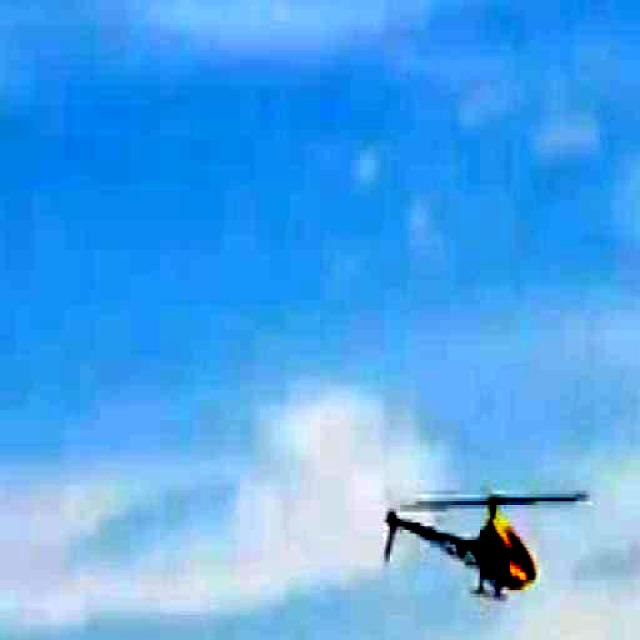drone: (375, 480, 592, 625)
